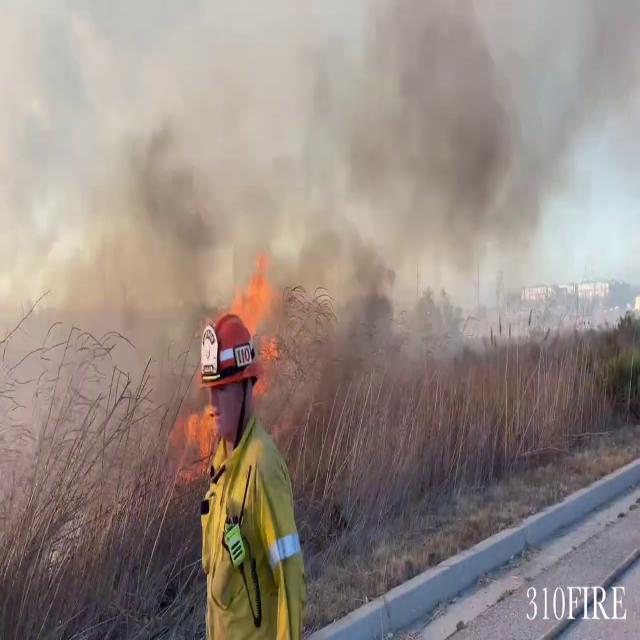Fire: (216, 248, 283, 352), (175, 395, 222, 484)
Smoke: (9, 0, 596, 430)
